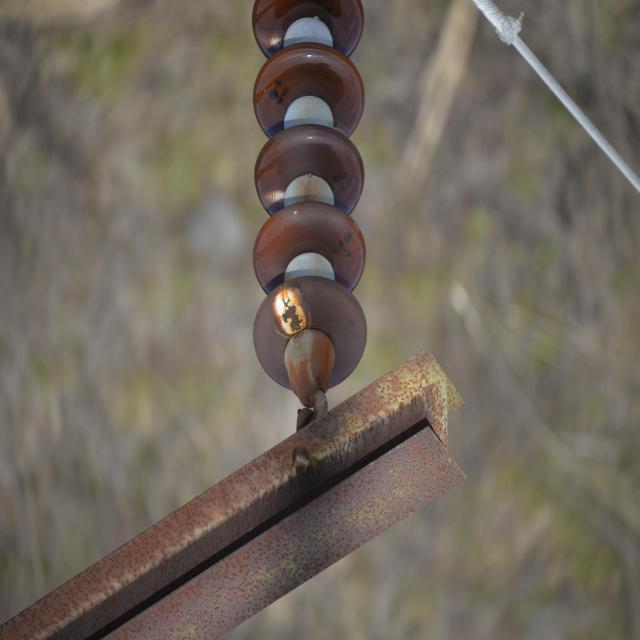insulator: (250, 0, 368, 391)
